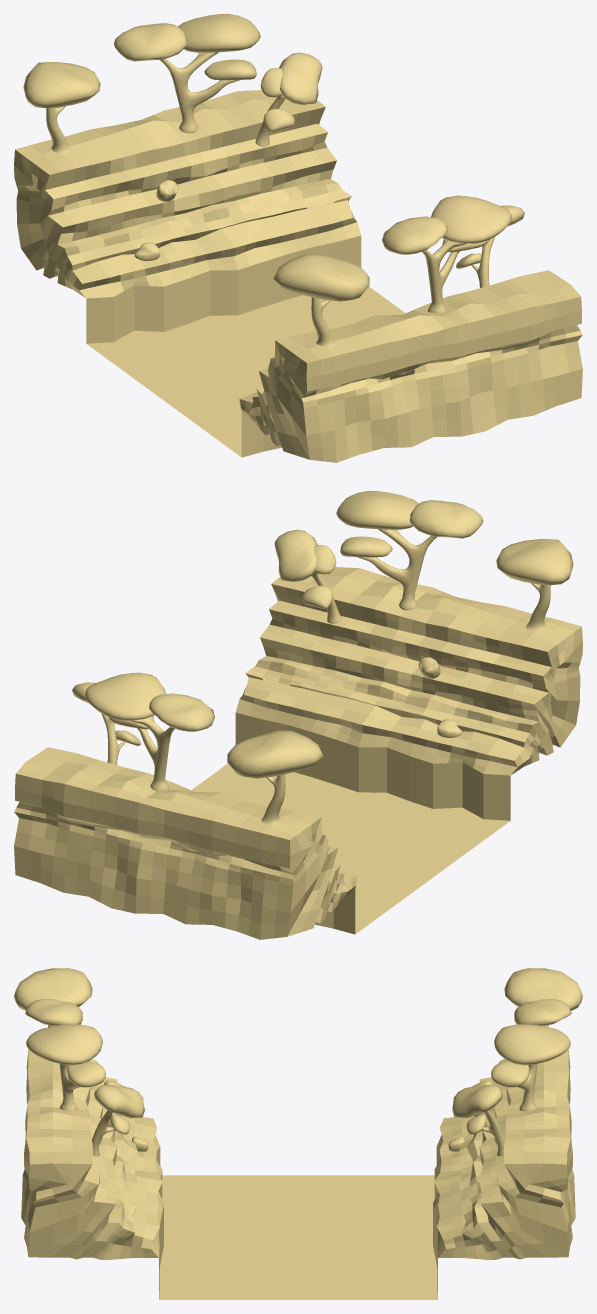
File: browravine5.fbx
3 renders of one model, top to bottom at view 1: azimuth 30°, elevation 25°; view 2: azimuth 150°, elevation 25°; view 3: azimuth 270°, elevation 25°, orthographic. The views are drawn at different scales.
Parts seen in each view (by area): view 1: browravine5; view 2: browravine5; view 3: browravine5.
Part boxes in pixels (x1,y1,x2,y2): browravine5: (14,14,582,462); browravine5: (14,491,582,939); browravine5: (14,968,582,1299).
Bounding box in the file's own units: 1319 × 1093 × 2443.
